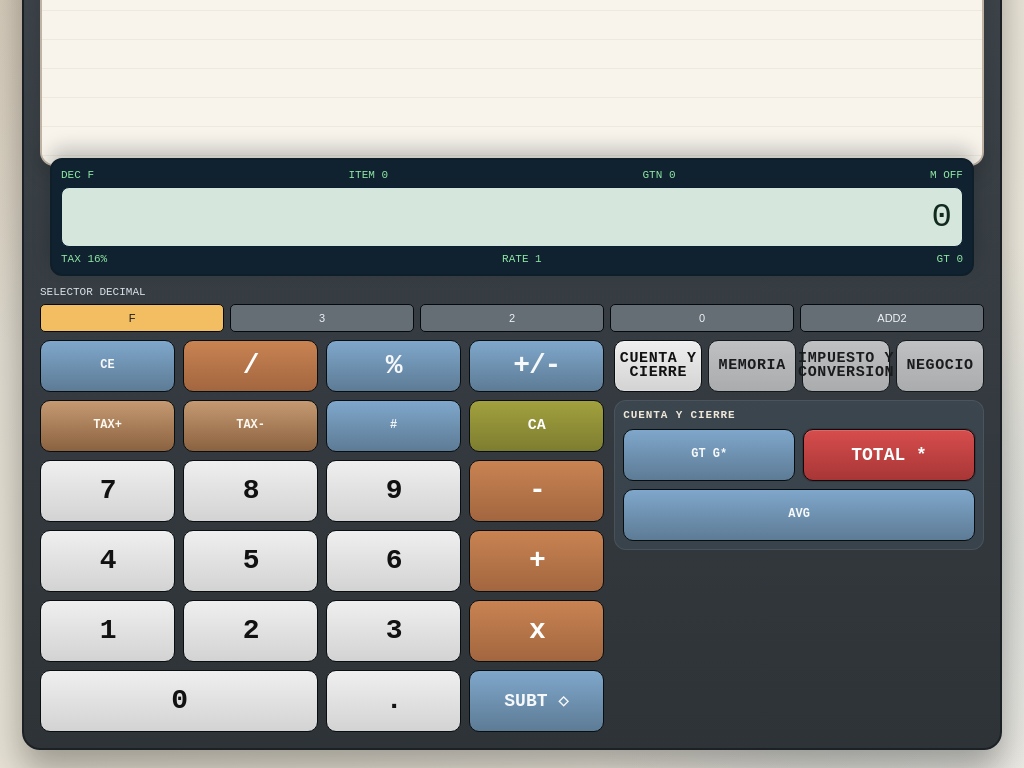
Scenario: double clicking the display copies the shown value to the clipboard
(page scrolled)
Click the button "4".
click(108, 561)  # box [40,530,175,592]
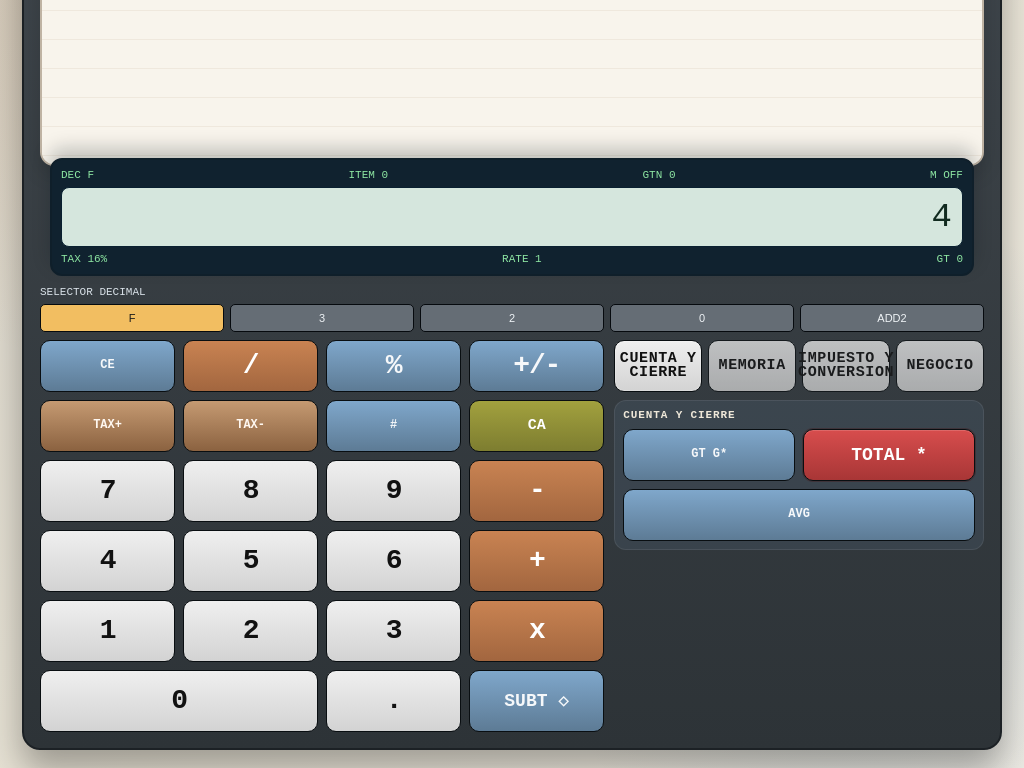
Click the 2nd button "2".
click(251, 631)  # box [183,600,318,662]
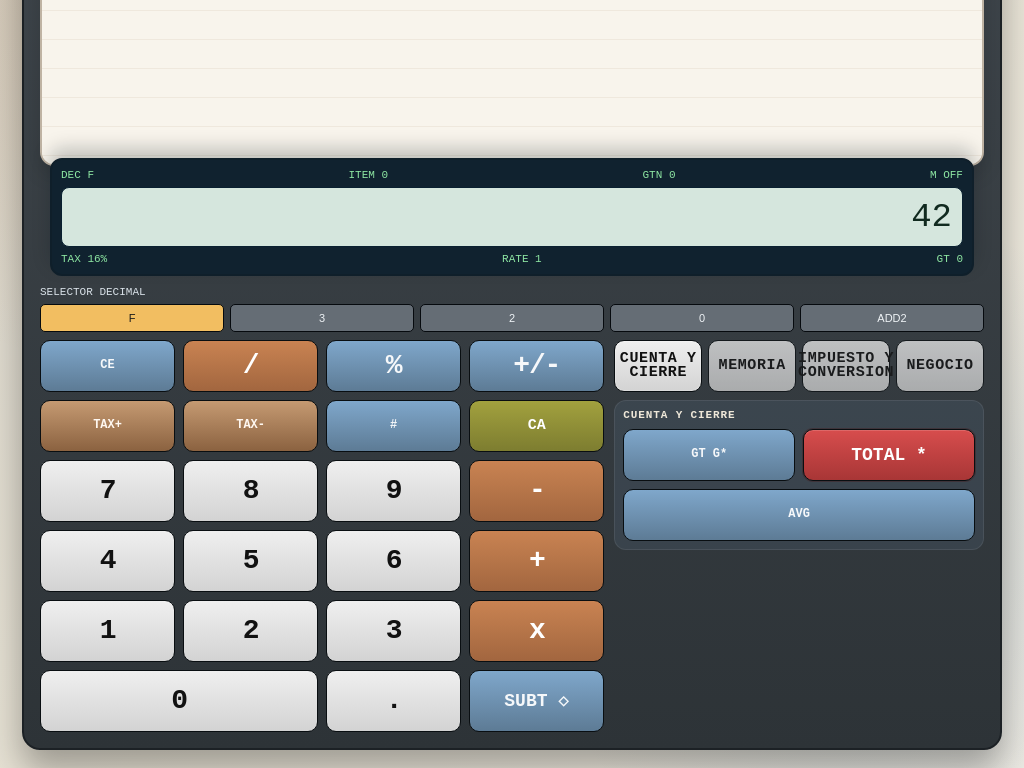
Double-click the text with class "hr-display".
double_click(512, 217)  # box [61,187,963,247]
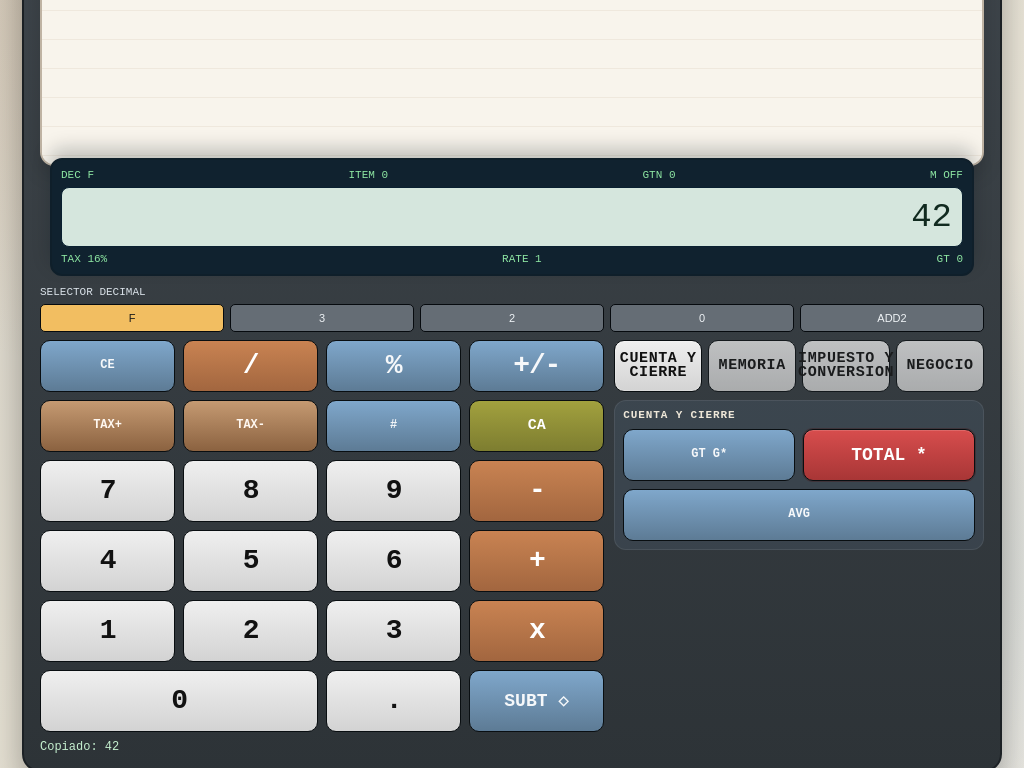
Result: the text "Copiado: 42" is shown at [40,740,119,754]
